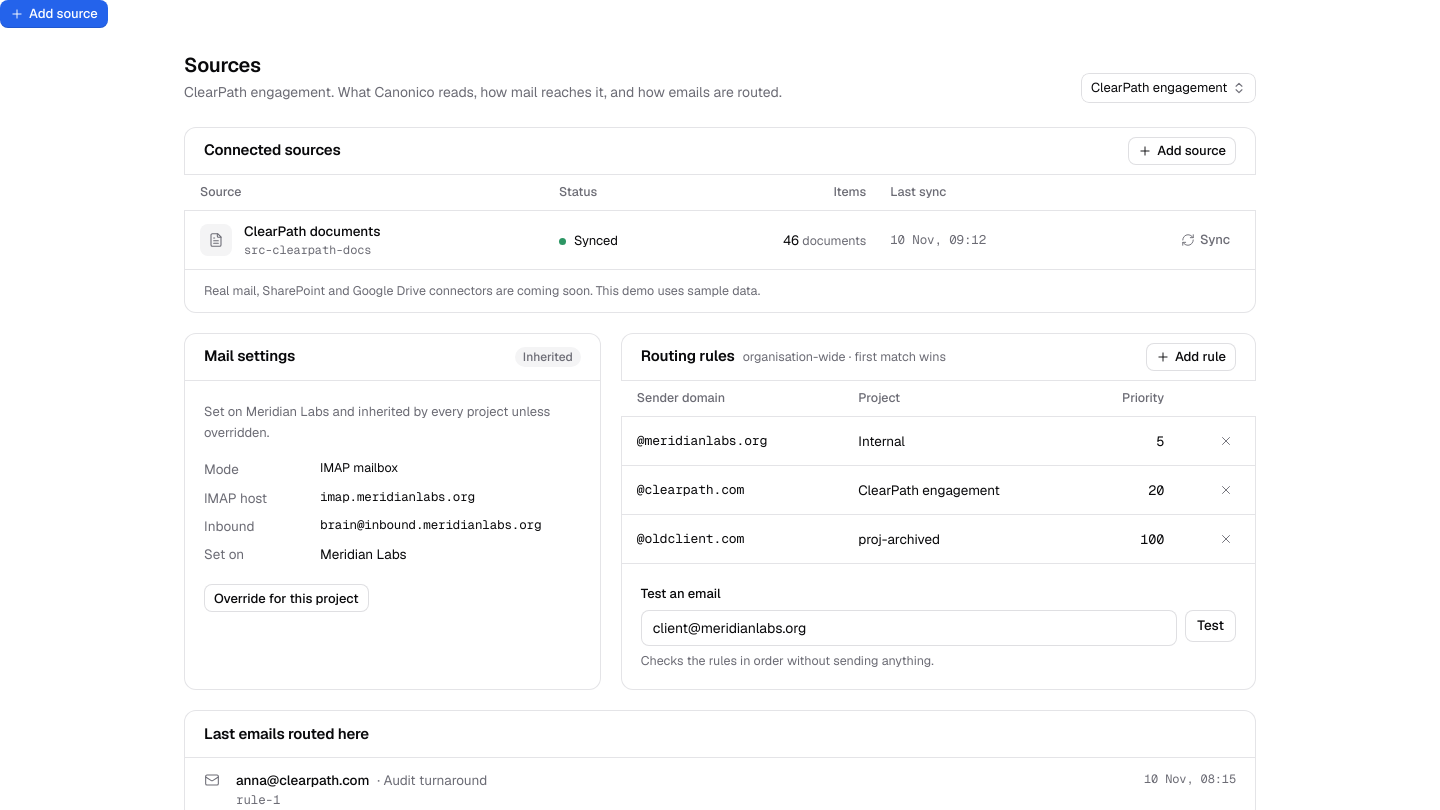
it: Sources › adding a source › puts Add source in the top bar, which opens the dialog for the project
Expected: the text "ClearPath documents" is shown, [244,221,380,241]
Expected: the text "Inherited" is shown, [515,346,581,366]
Click the 1st button "Add source": (54, 14) [0,0,108,28]
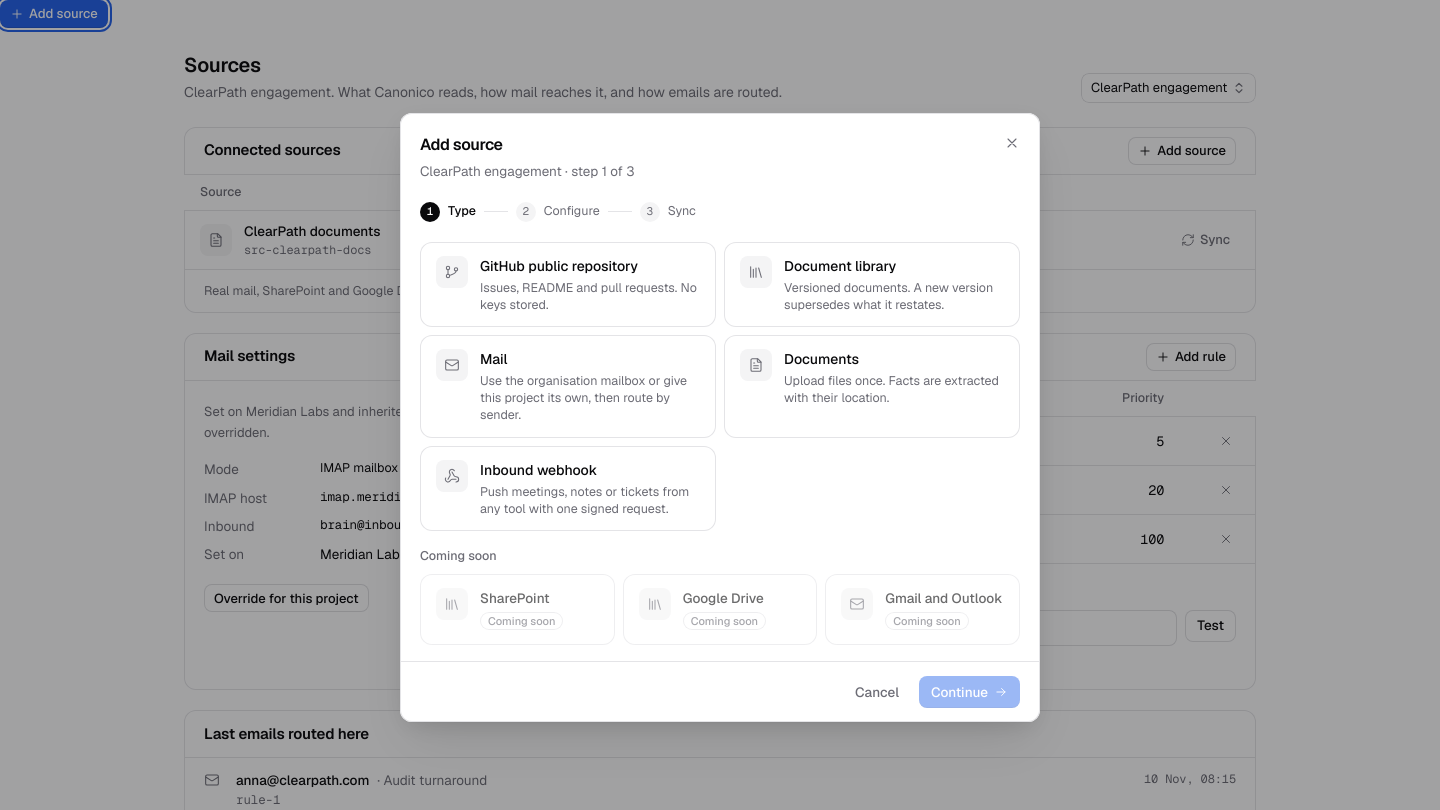
Now the heading "Add source" is shown, box [420,134,503,155]
Now the text "ClearPath engagement · step 1 of 3" is shown, box [420,162,634,180]
Click the button named "Close": (1012, 143) [998,129,1026,157]
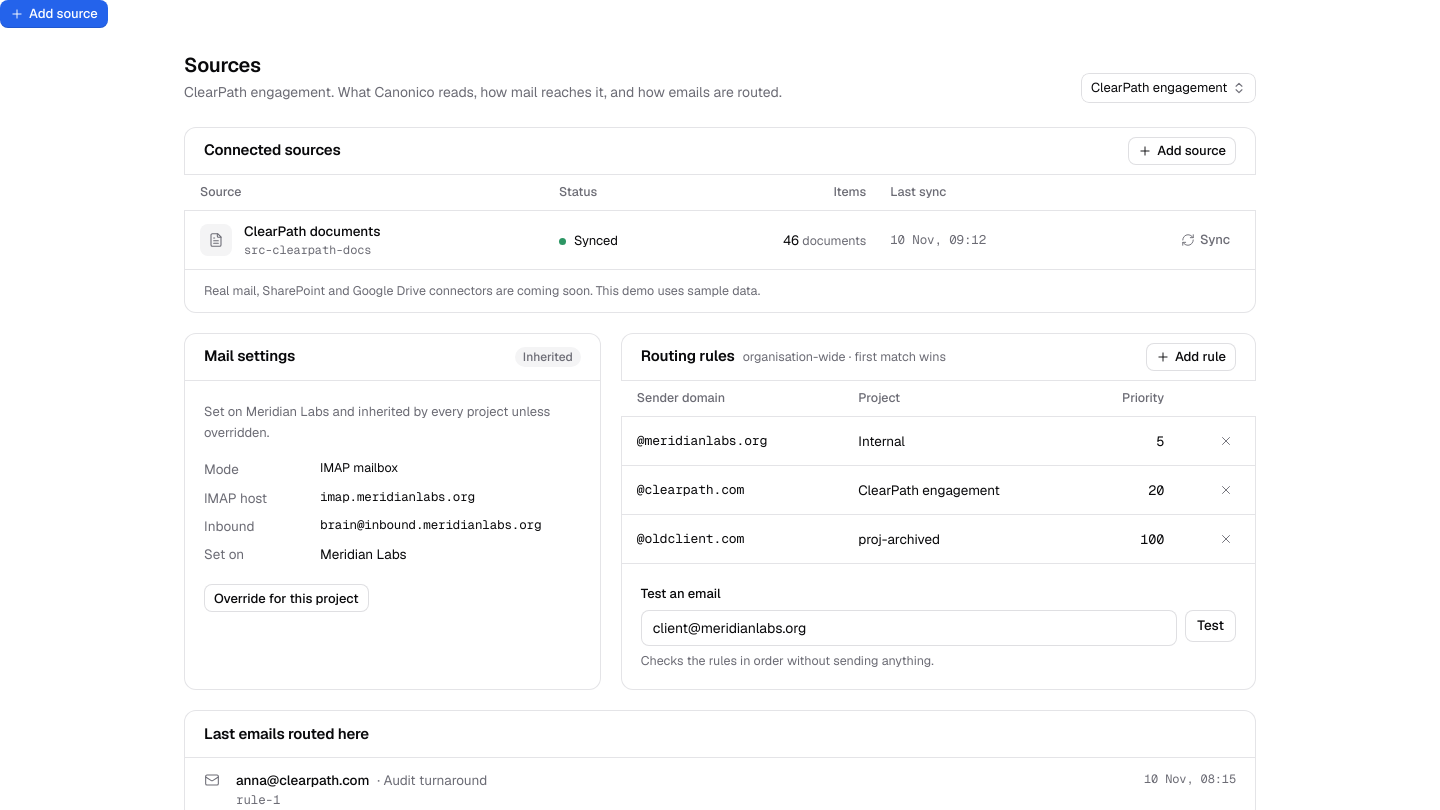
Now the dialog is gone
